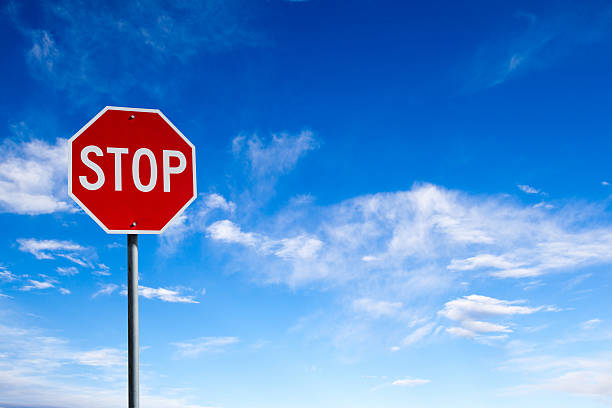Stop Signal: (42, 90, 273, 256)
